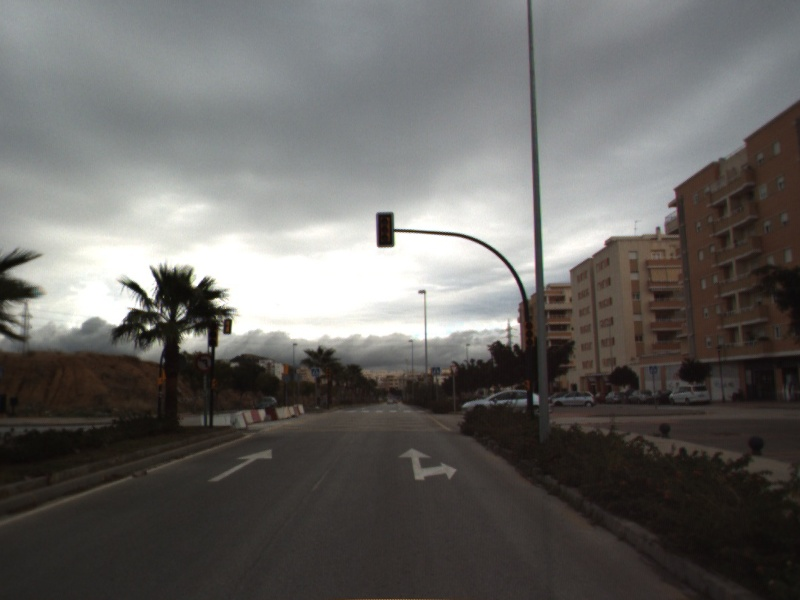STRAIGHT: (206, 447, 274, 483)
STRAIGHT_RIGHT: (396, 446, 459, 482)
